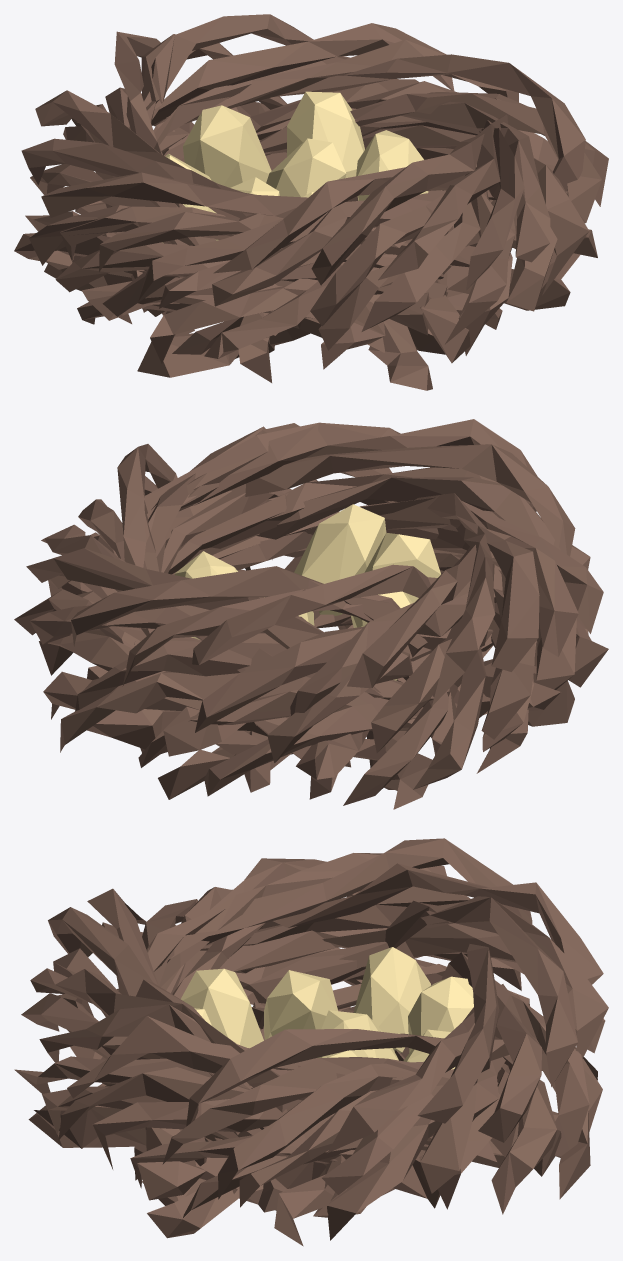
File: Nest_16.fbx
3 renders of one model, top to bottom at view 1: azimuth 30°, elevation 25°; view 2: azimuth 150°, elevation 25°; view 3: azimuth 270°, elevation 25°, orthographic. The views are drawn at different scales.
Visible parts, largest first — view 1: Nest_16_LOD0; view 2: Nest_16_LOD0; view 3: Nest_16_LOD0.
Boxes of the visible parts, x1,y1,x2,y2 form: Nest_16_LOD0: (14,14,608,390); Nest_16_LOD0: (14,419,608,809); Nest_16_LOD0: (14,838,608,1246).
Size of what is drawn, in the model's own units: 39.35 by 16.85 by 37.56.
